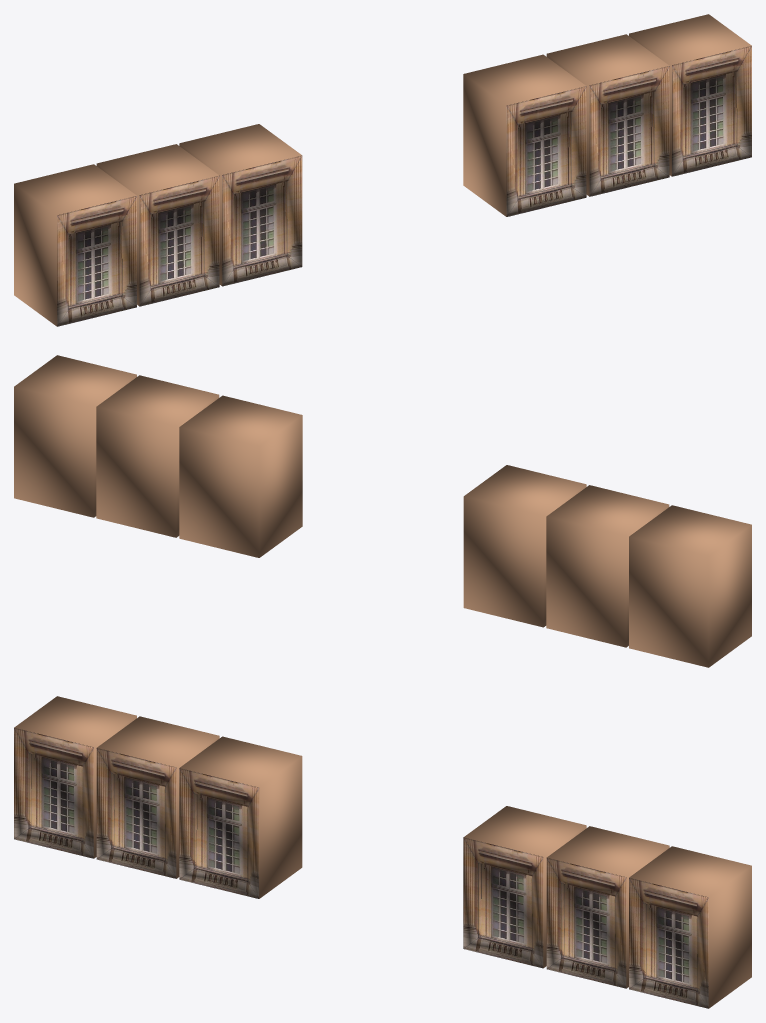
File: collectionBatiment.obj
3 renders of one model, top to bottom at view 1: azimuth 30°, elevation 25°; view 2: azimuth 150°, elevation 25°; view 3: azimuth 330°, elevation 25°, orthographic.
Visible parts, largest first — view 1: Box004, Box001, Box005, Box003, Box002, Box006; view 2: Box004, Box001, Box005, Box003, Box002, Box006; view 3: Box003, Box006, Box004, Box002, Box001, Box005.
Boxes of the visible parts, x1,y1,x2,y2 form: Box004: [463, 54, 586, 216]; Box001: [14, 164, 136, 326]; Box005: [546, 34, 669, 196]; Box003: [179, 124, 302, 286]; Box002: [96, 144, 219, 306]; Box006: [629, 14, 751, 176]; Box004: [179, 395, 302, 557]; Box001: [629, 505, 751, 667]; Box005: [96, 375, 219, 537]; Box003: [463, 465, 586, 627]; Box002: [546, 485, 669, 647]; Box006: [14, 355, 136, 517]; Box003: [179, 736, 302, 898]; Box006: [629, 846, 751, 1008]; Box004: [463, 806, 586, 968]; Box002: [96, 716, 219, 878]; Box001: [14, 696, 136, 858]; Box005: [546, 826, 669, 988].
Size of the model in its own units: 167 by 25.62 by 17.97.
